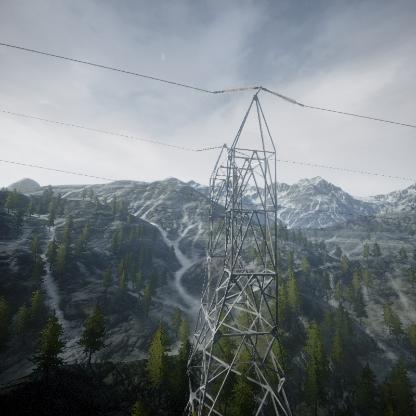tower: (186, 81, 307, 414)
